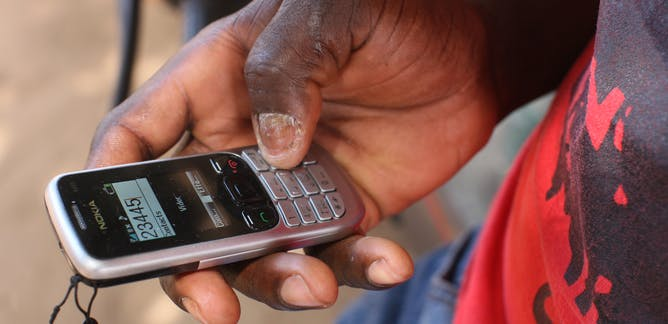phones: (22, 146, 379, 278)
